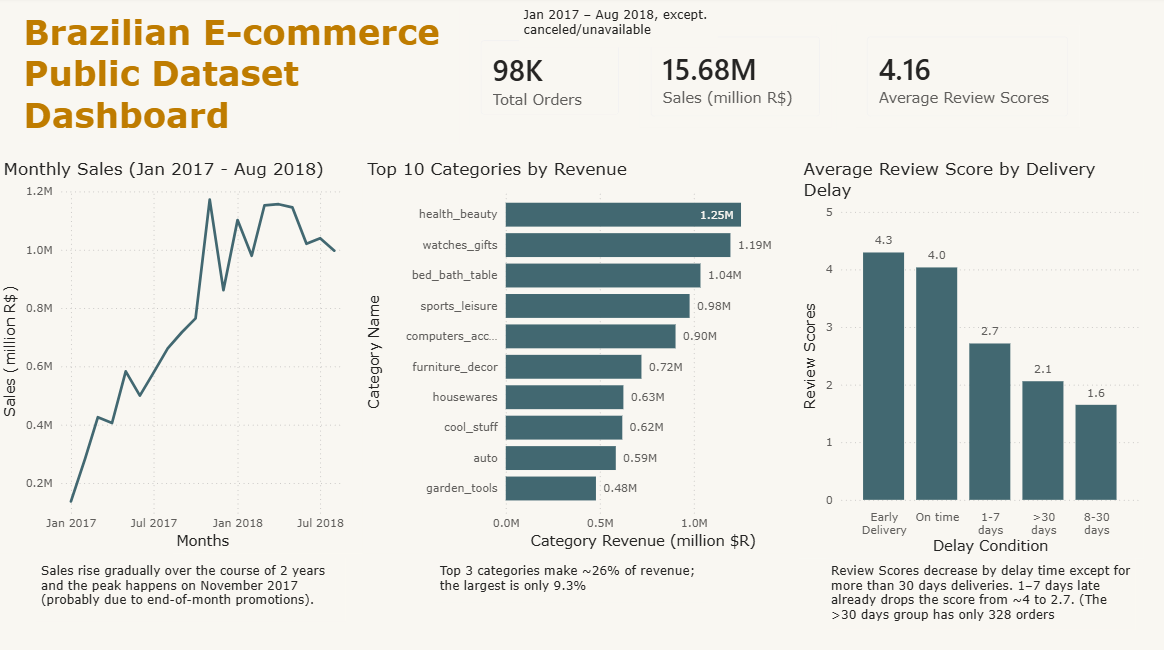

This screenshot's page, from the dashboard's own definition file:
{"tool":"powerbi","page":{"name":"Page 1","canvas":[1280,720],"ordinal":0},"visuals":[{"type":"clusteredColumnChart","title":"Average Review Score by Delivery Delay","fields":{"Category":["Review_by_Delay.delay_condition"],"Y":["Avg(Review_by_Delay.average_review_score)"]},"box":[878.2,178.4,378.7,439.1],"z":0},{"type":"lineChart","title":"Monthly Sales (Jan 2017 - Aug 2018)","fields":{"Category":["Monthly_Sales.purchase_month"],"Y":["Sum(Monthly_Sales.monthly_sales)"]},"box":[0,178.4,399.3,433.6],"z":1000},{"type":"clusteredBarChart","title":"Top 10 Categories by Revenue","fields":{"Category":["Category_Revenue.product_category_name_english"],"Y":["Sum(Category_Revenue.category_revenue)"]},"box":[399.3,178.4,478.9,433.6],"z":2000},{"type":"cardVisual","fields":{"Data":["Sum(Monthly_Sales.monthly_sales)"]},"box":[698.5,27.4,220.9,122.1],"z":3000},{"type":"textbox","box":[22,11,483,150.9],"z":4000},{"type":"cardVisual","fields":{"Data":["Sum(Monthly_Sales.number_of_monthly_orders)"]},"box":[511.8,31.6,186.6,116.6],"z":5000},{"type":"cardVisual","fields":{"Data":["Review_by_Delay.Weighted Avg Score"]},"box":[935.9,27.4,255.2,122.1],"z":6000},{"type":"textbox","box":[41.2,617.5,338.9,68.6],"z":7000},{"type":"textbox","box":[908.4,617.5,338.9,78.2],"z":8000},{"type":"textbox","box":[478.9,617.5,299.1,48],"z":9000},{"type":"textbox","box":[570.8,6.9,218.2,49.4],"z":10000}]}

Visuals, with their boxes in screenshot pixels (x1, y1, x2, y2), scaled from the page's 1280x720 canvas onto the 1164x650 screenshot:
"Average Review Score by Delivery Delay" clusteredColumnChart: box(799, 161, 1143, 557)
"Monthly Sales (Jan 2017 - Aug 2018)" lineChart: box(0, 161, 363, 552)
"Top 10 Categories by Revenue" clusteredBarChart: box(363, 161, 799, 552)
cardVisual - Sum(Monthly_Sales.monthly_sales): box(635, 25, 836, 135)
textbox: box(20, 10, 459, 146)
cardVisual - Sum(Monthly_Sales.number_of_monthly_orders): box(465, 29, 635, 134)
cardVisual - Review_by_Delay.Weighted Avg Score: box(851, 25, 1083, 135)
textbox: box(37, 557, 346, 619)
textbox: box(826, 557, 1134, 628)
textbox: box(435, 557, 707, 601)
textbox: box(519, 6, 717, 51)
